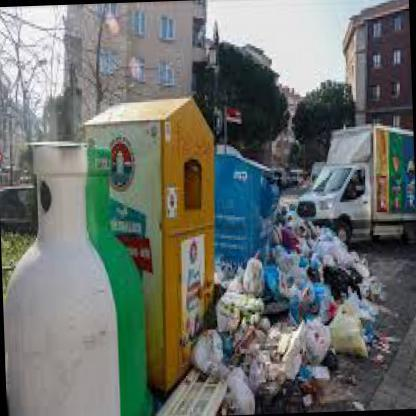Garbage: (261, 220, 347, 382), (197, 311, 282, 414), (318, 235, 378, 305), (271, 348, 332, 403), (366, 305, 402, 379), (322, 302, 362, 364), (187, 326, 225, 376), (212, 280, 246, 334), (241, 248, 271, 301), (225, 372, 255, 414), (223, 266, 239, 300), (346, 254, 362, 282), (288, 229, 302, 254), (289, 256, 303, 279)
